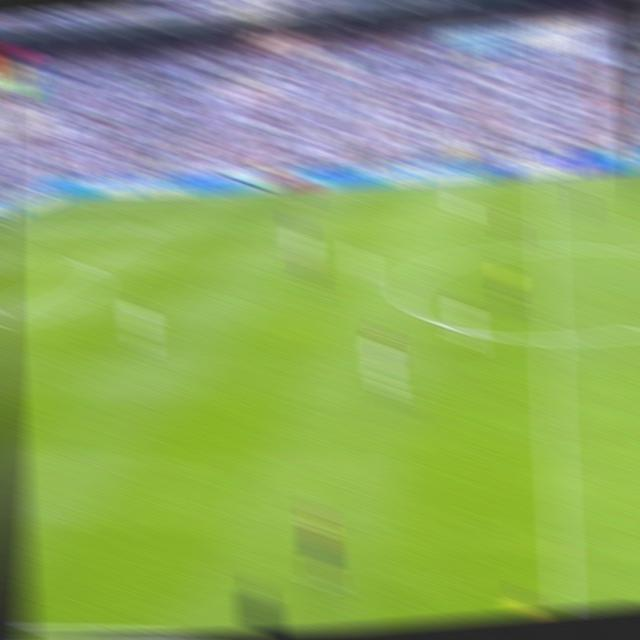corner: (50, 192, 72, 208)
halfcircle_bottom: (537, 323, 562, 355)
halfcircle_top: (535, 236, 558, 260)
midline_top_intersection: (534, 173, 554, 191)
top_arc_area_intersection: (75, 254, 97, 274)
